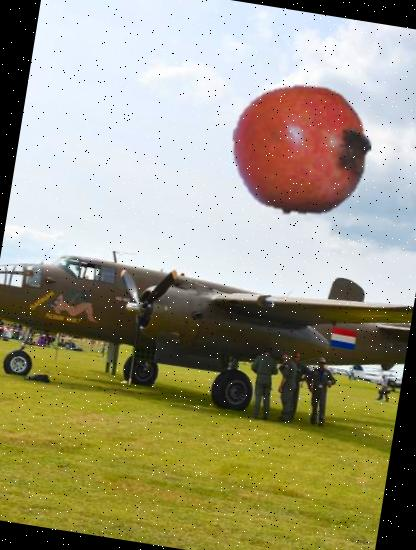Pomegranate: (222, 71, 380, 230)
